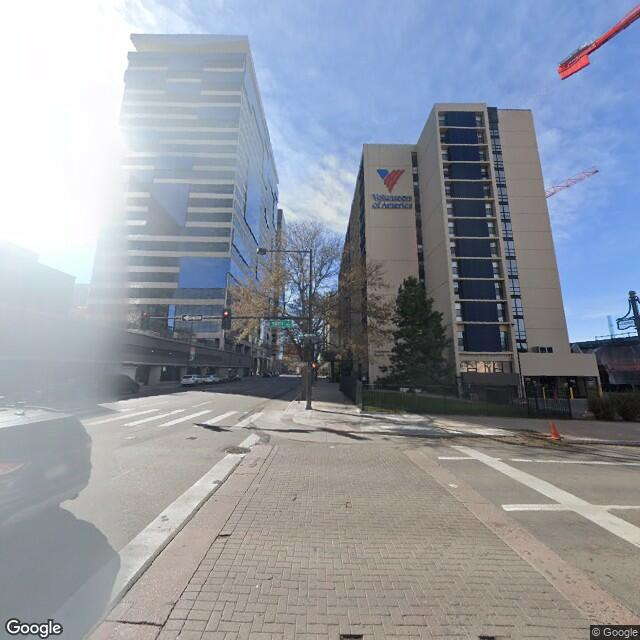lamp: (253, 246, 317, 414)
